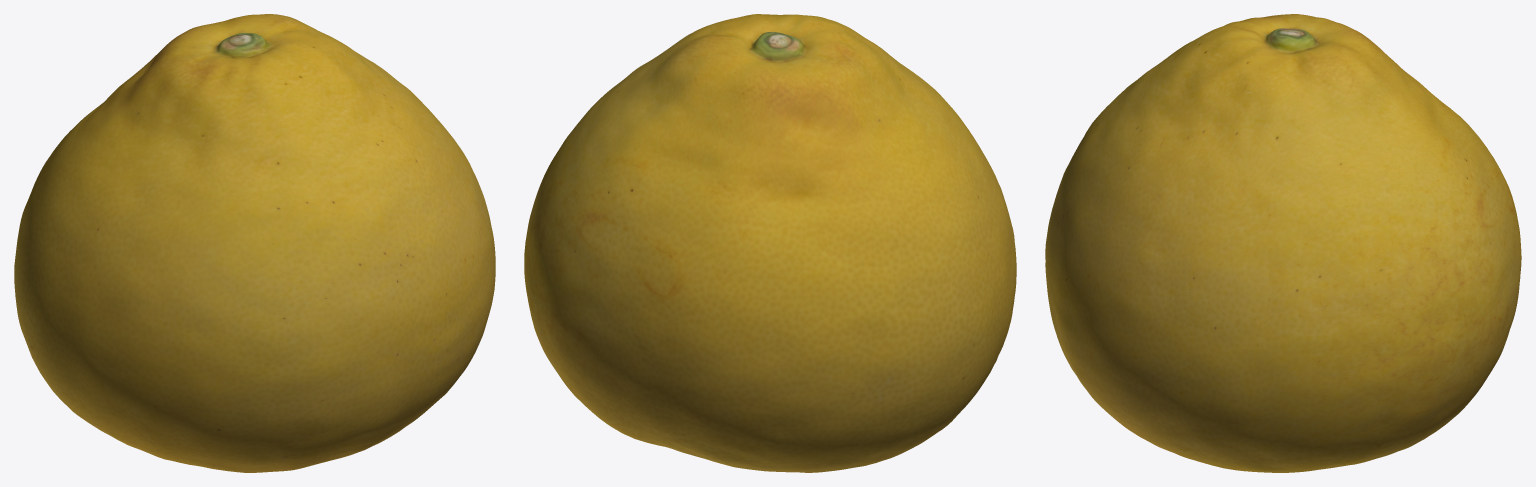
Rendered from YellowFruitCitrus.fbx.
3 renders of one model, left to right at view 1: azimuth 30°, elevation 25°; view 2: azimuth 150°, elevation 25°; view 3: azimuth 270°, elevation 25°, orthographic. The views are drawn at different scales.
Parts seen in each view (by area): view 1: Citrus_10k; view 2: Citrus_10k; view 3: Citrus_10k.
Boxes of the visible parts, x1,y1,x2,y2 form: Citrus_10k: (14, 14, 495, 472); Citrus_10k: (524, 14, 1016, 472); Citrus_10k: (1045, 14, 1521, 472).
Bounding box in the file's own units: 0.1047 × 0.101 × 0.0925.
Materials: 1 (1 with a texture image).
